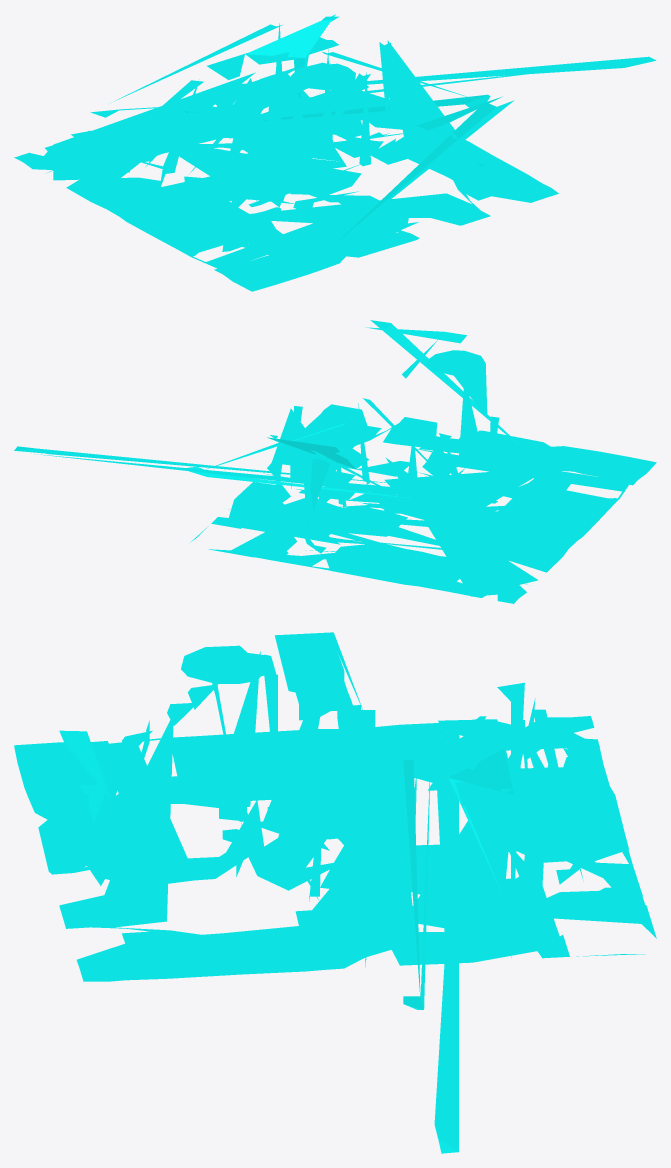
The model's file is tritest.obj.
3 views of the same model, one above another, from view 1: azimuth 30°, elevation 25°; view 2: azimuth 150°, elevation 25°; view 3: azimuth 270°, elevation 25° (orthographic). The views are drawn at different scales.
Visible parts, largest first — view 1: Tile 0; view 2: Tile 0; view 3: Tile 0.
Boxes of the visible parts, <box> form: Tile 0: <box>14,14,656,291</box>; Tile 0: <box>14,320,656,603</box>; Tile 0: <box>14,632,656,1153</box>.
Bounding box in the file's own units: 86.4 × 19 × 55.5.
